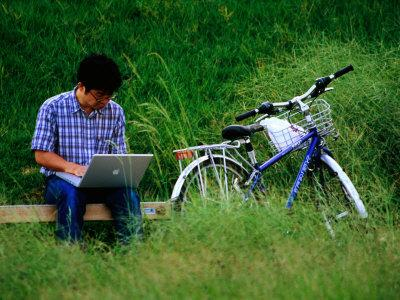person: (33, 54, 146, 251)
